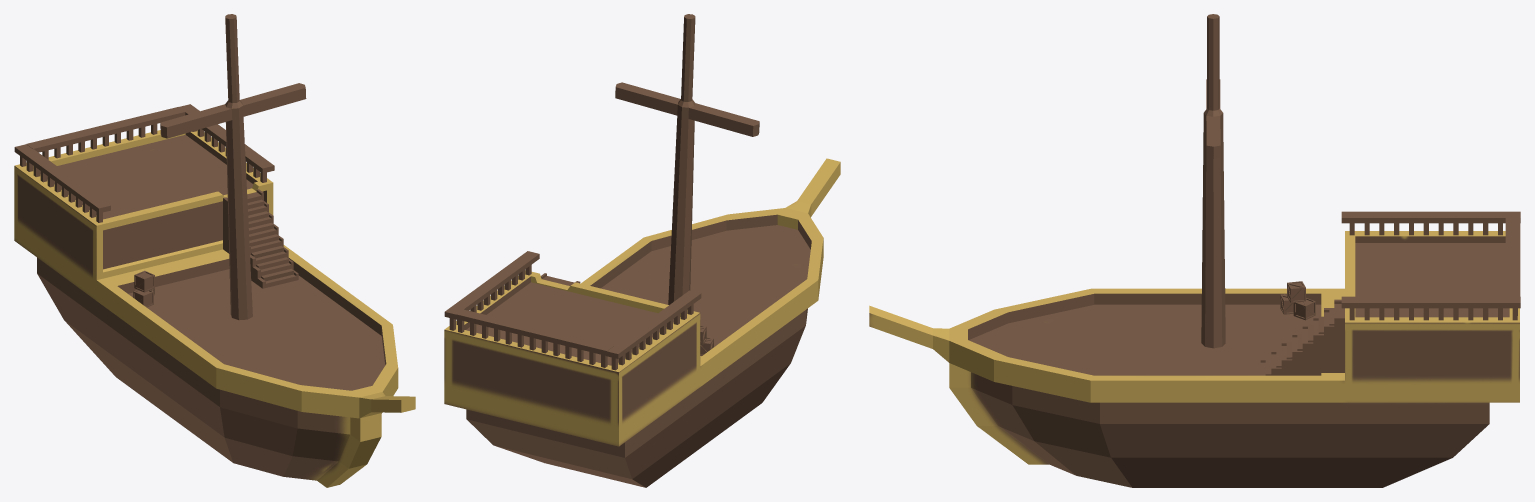
File: PirateShipArena3.fbx
The picture shows the model from 3 angles, left to right: view 1: azimuth 30°, elevation 25°; view 2: azimuth 150°, elevation 25°; view 3: azimuth 270°, elevation 25°; orthographic projection. The views are drawn at different scales.
Visible parts, largest first — view 1: Cube, Cube.002; view 2: Cube, Cube.002; view 3: Cube, Cube.002.
Part boxes in pixels (<box>): Cube: <box>14,130,415,487</box>; Cube.002: <box>14,14,306,320</box>; Cube: <box>444,158,840,487</box>; Cube.002: <box>444,14,759,370</box>; Cube: <box>869,231,1519,487</box>; Cube.002: <box>1201,14,1520,375</box>.
Bounding box in the file's own units: 966 × 2144 × 2896.
